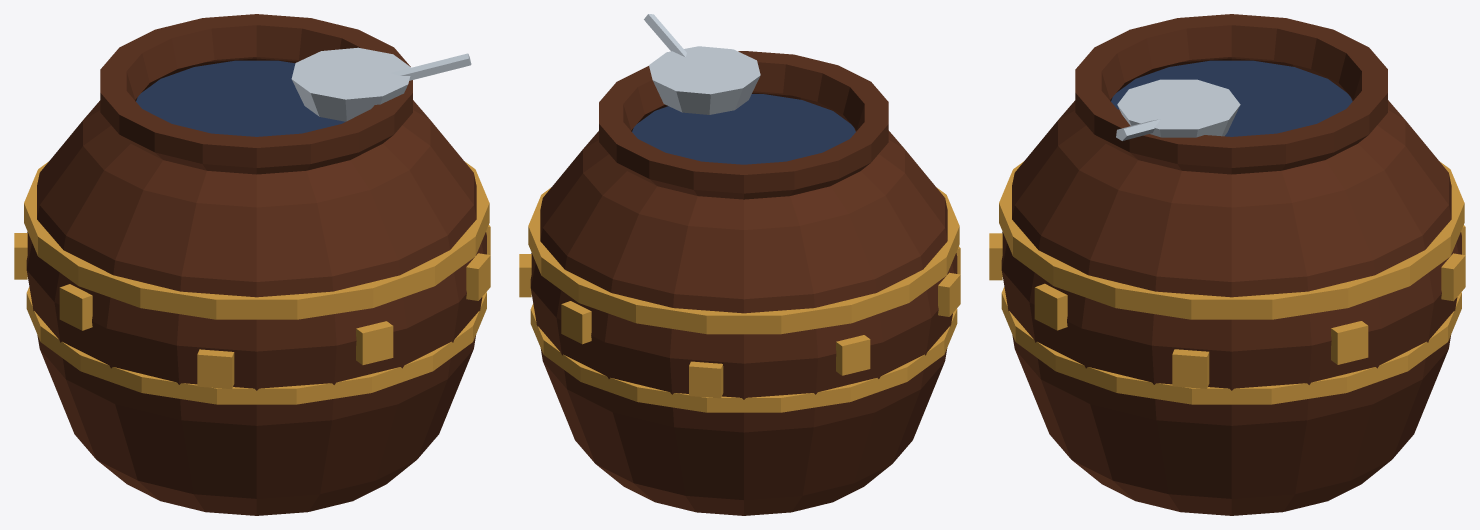
Rendered from water_jar.glb.
The picture shows the model from 3 angles, left to right: view 1: azimuth 30°, elevation 25°; view 2: azimuth 150°, elevation 25°; view 3: azimuth 270°, elevation 25°; orthographic projection. The views are drawn at different scales.
Visible parts, largest first — view 1: water_jar; view 2: water_jar; view 3: water_jar.
Boxes of the visible parts, bbox=[...] form: water_jar: bbox=[14, 14, 490, 515]; water_jar: bbox=[519, 14, 960, 515]; water_jar: bbox=[989, 14, 1465, 515].
Size of the model in its own units: 1.1 by 1 by 1.08.
